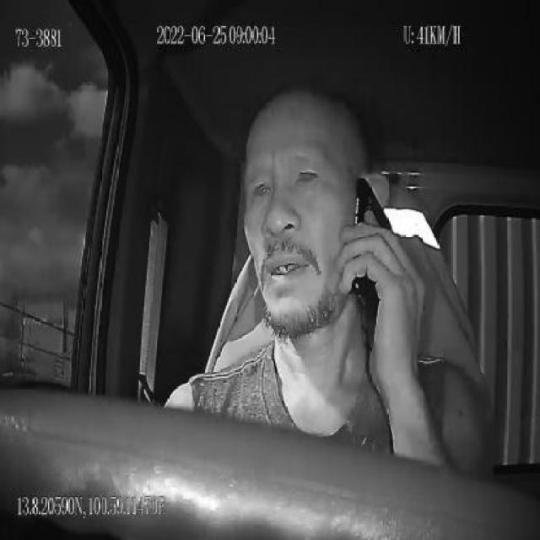phone: (350, 172, 392, 330)
